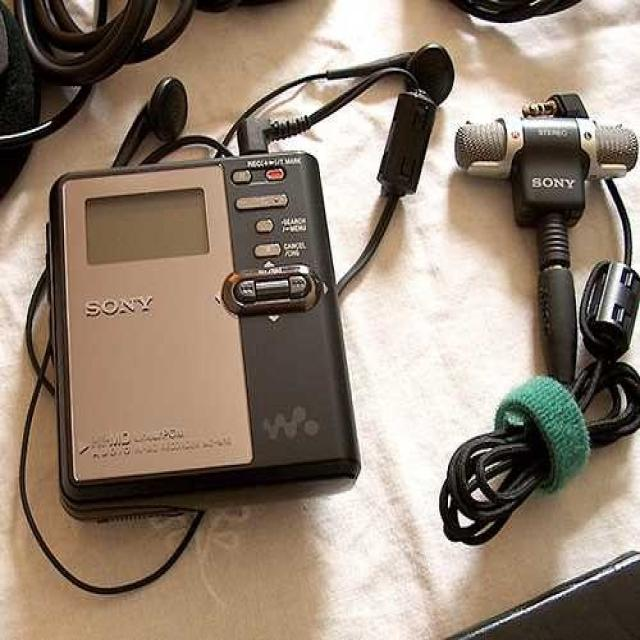microphone: (450, 106, 637, 188)
